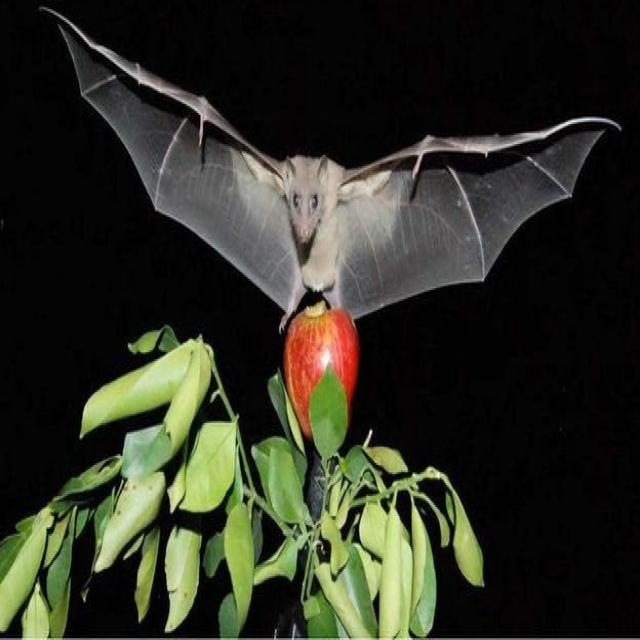Bat: (42, 0, 614, 305)
